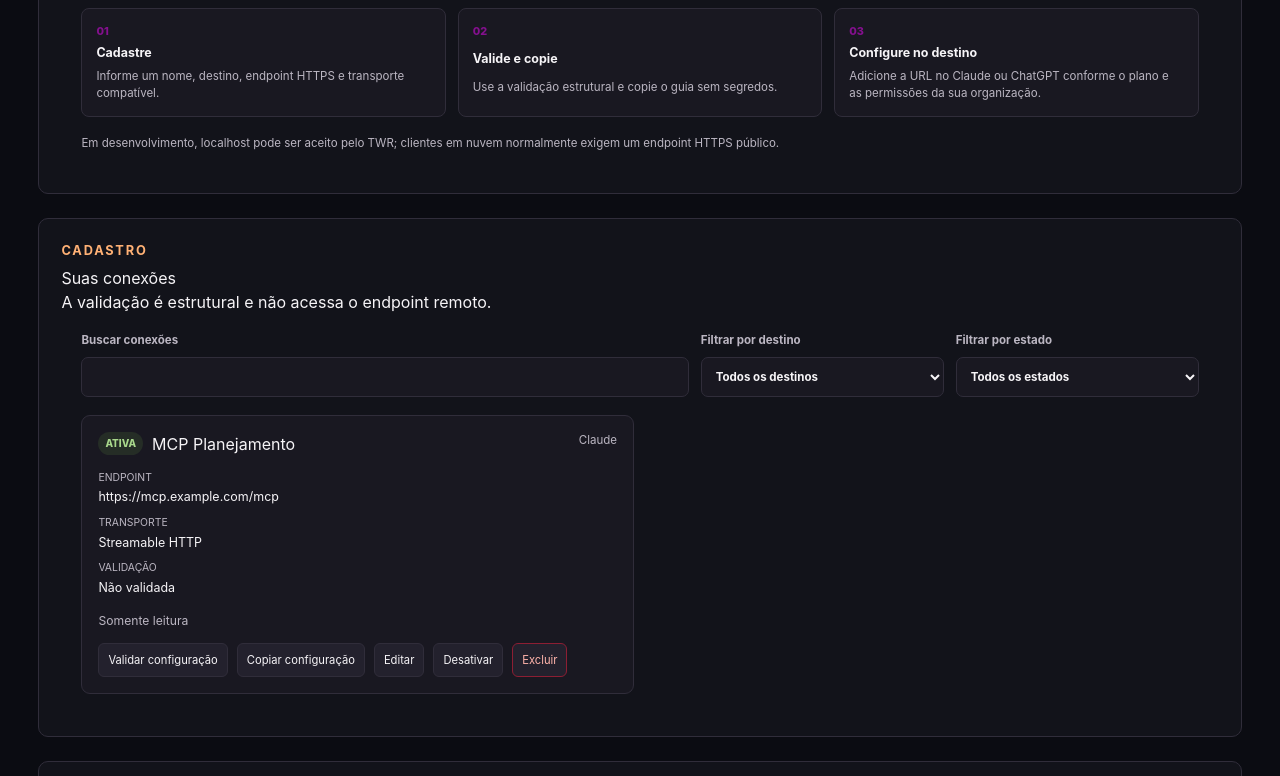
Test: McpConnectionsPage › distinguishes an empty registry from filters without matches
(page scrolled)
expect the heading "MCP Planejamento" is shown: met, box left=152, top=432, right=295, bottom=456
In the field labelled "Buscar conexões": coordinates (385, 377) left=81, top=357, right=689, bottom=397, type "inexistente"
(page scrolled)
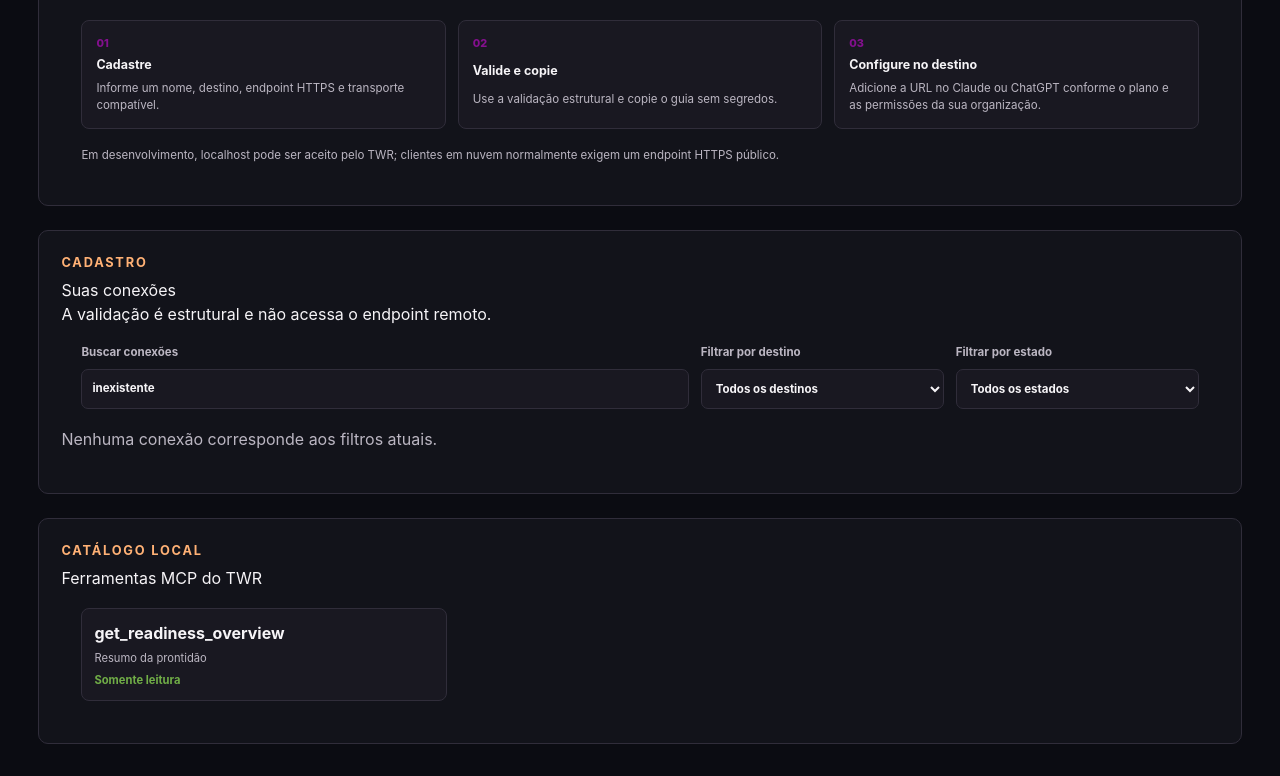
expect the text "Nenhuma conexão corresponde aos filtros atuais." is shown: met, box left=61, top=429, right=437, bottom=449
